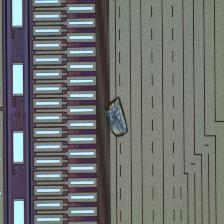PARTICLE: (105, 97, 130, 139)
